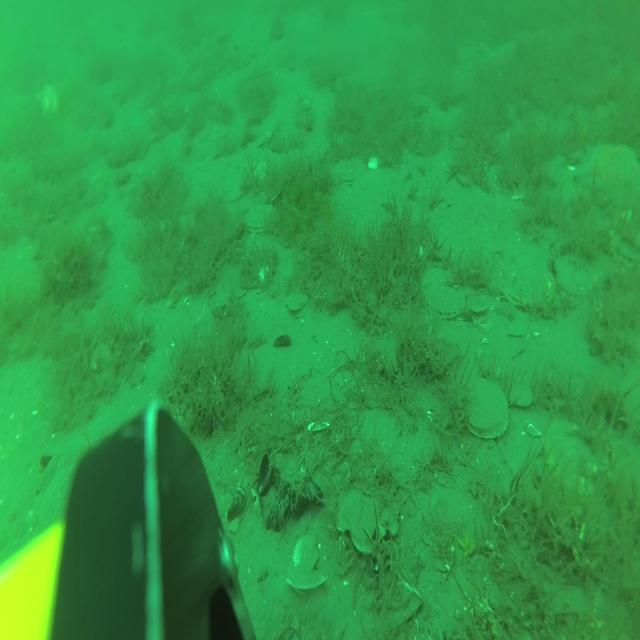scallop: (544, 418, 597, 496), (463, 376, 509, 440), (500, 260, 554, 309), (287, 532, 326, 590), (422, 266, 464, 317), (554, 256, 596, 297), (610, 232, 640, 268), (245, 204, 277, 234), (35, 85, 58, 125), (334, 157, 364, 184), (510, 380, 533, 407), (286, 291, 309, 313), (470, 299, 488, 321)
starfish: (575, 143, 640, 195)
